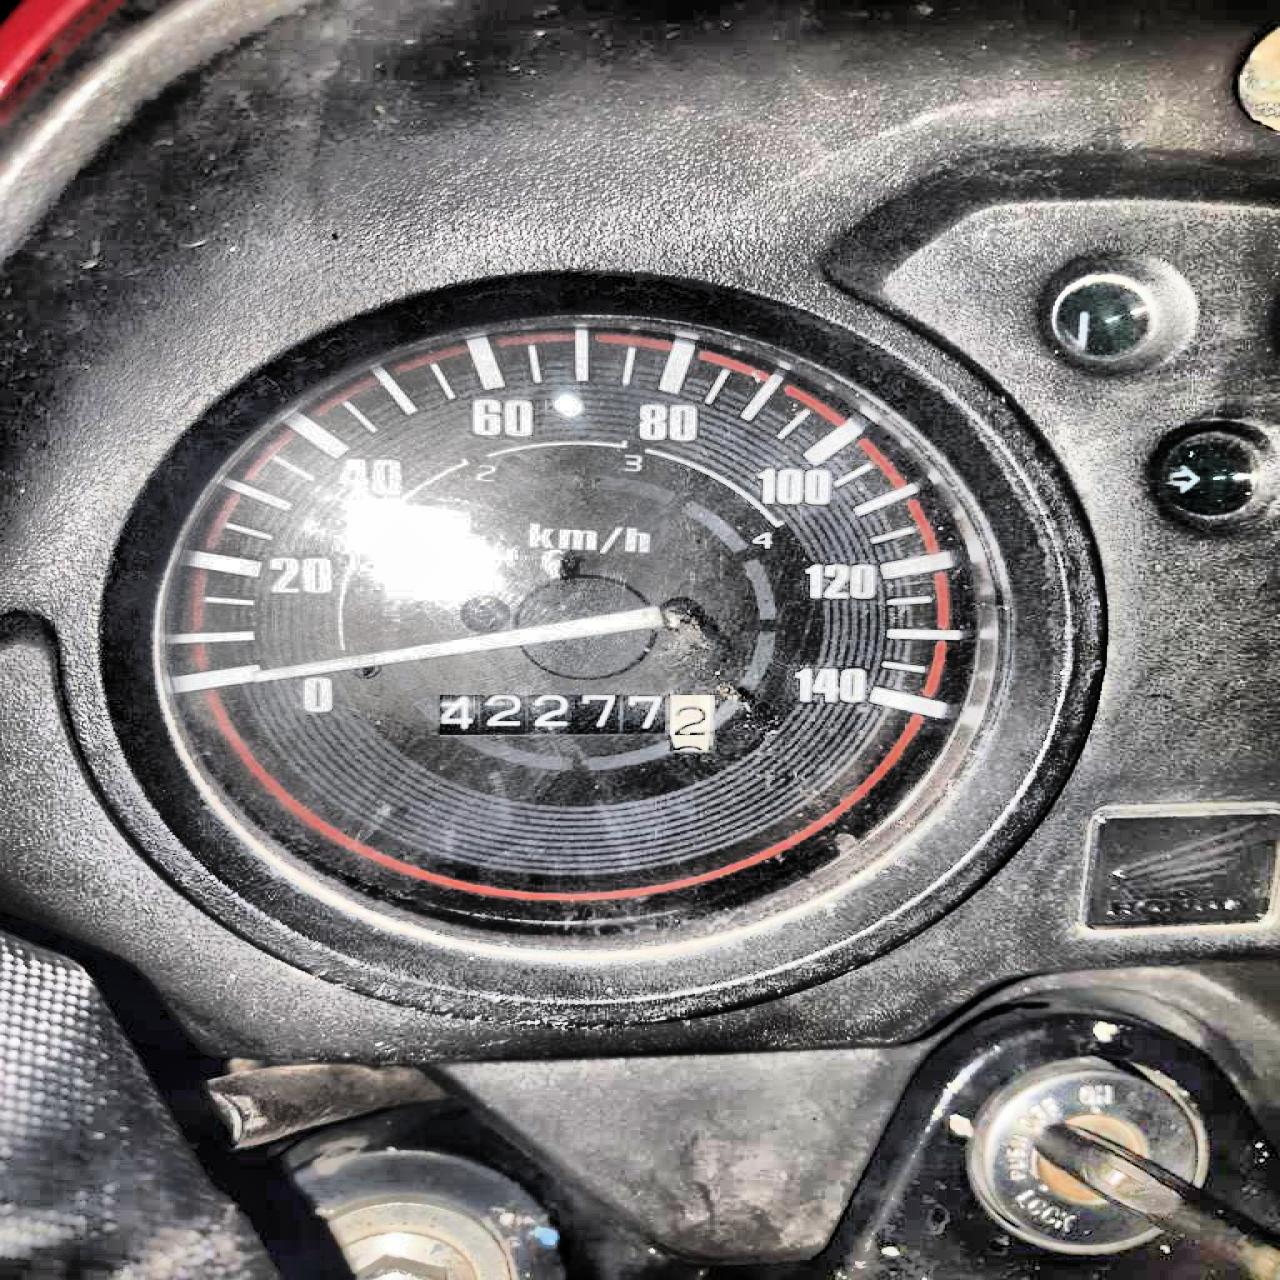2: (482, 694, 520, 727), (531, 694, 566, 726), (672, 704, 706, 735)
4: (441, 695, 471, 729)
7: (626, 694, 661, 728), (580, 693, 615, 727)
odometer: (434, 692, 719, 754)
